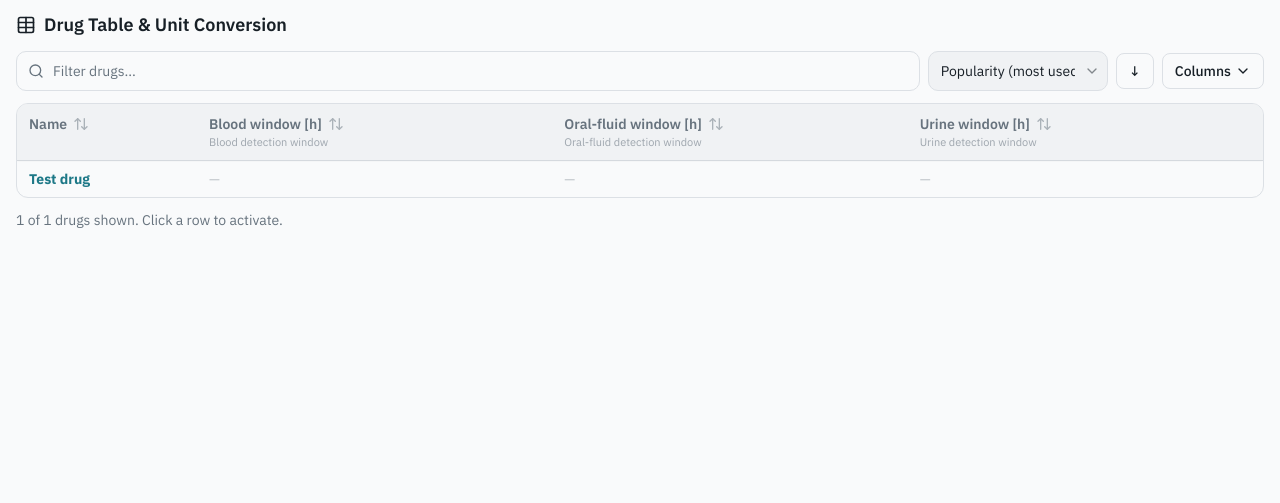
DrugTable columns › switches to a column axis another surface asked for, once
Expected: the text "Test drug" is shown, [29,170,90,188]
Expected: the column heading "Urine window [h] Urine detection window" is shown, [908,104,1263,160]
Click the button "Columns" at (1213, 71), box [1162,53,1264,89]
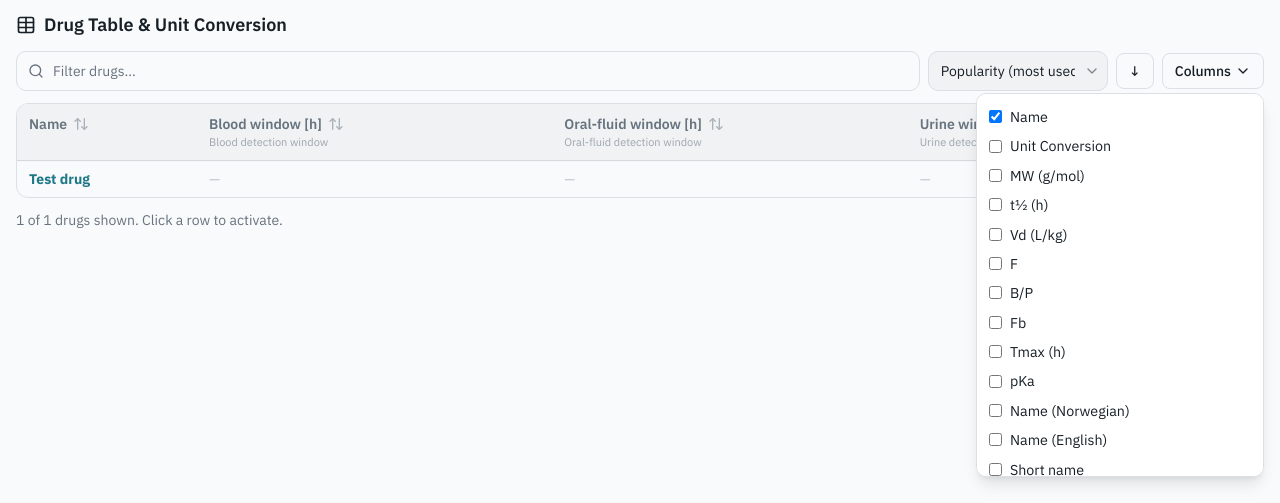
Click the checkbox labelled "MW (g/mol)" at (996, 175), box [989,169,1002,182]
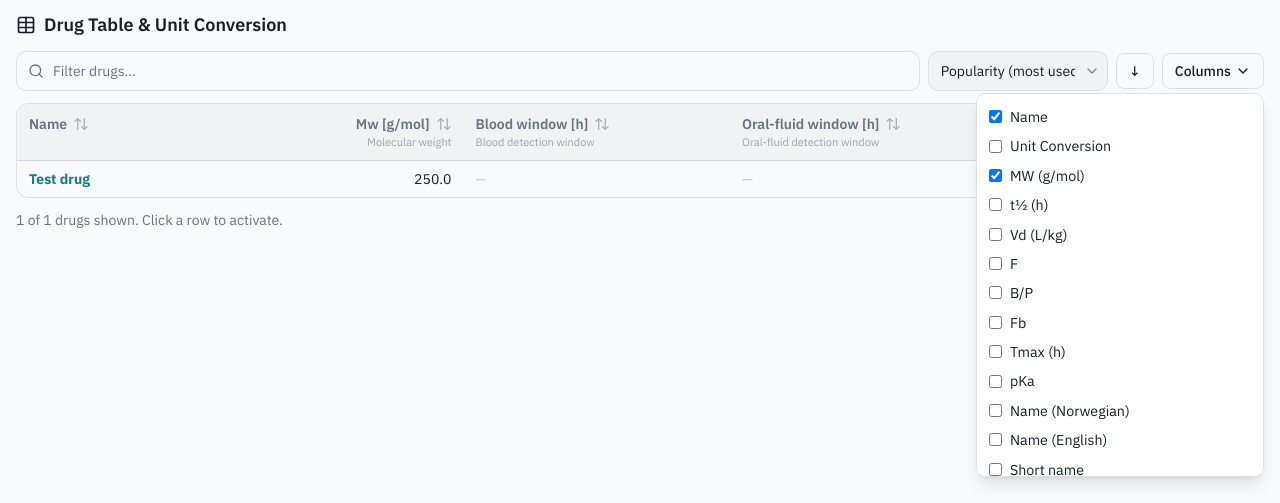
Result: the column heading "Mw [g/mol] Molecular weight" is shown at [197,104,464,160]
